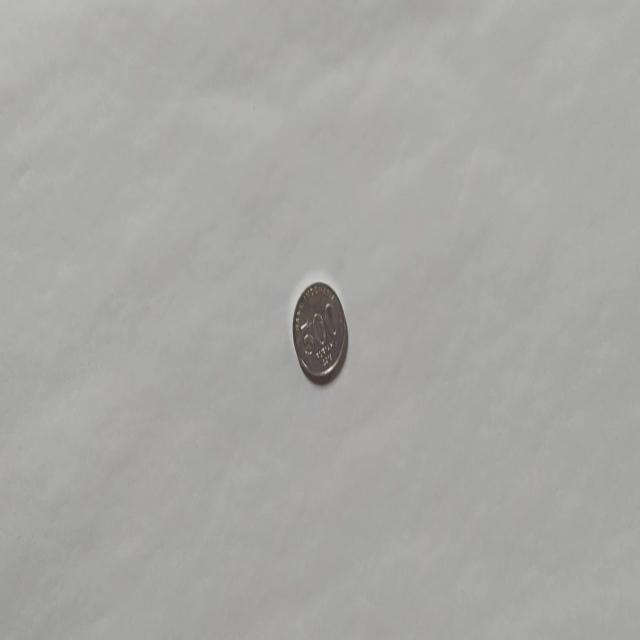lima ratus rupiah: (291, 279, 348, 384)
